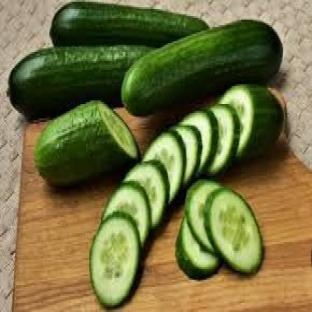Cucumber: (122, 20, 282, 114), (9, 45, 150, 120), (35, 103, 138, 186), (51, 2, 207, 46), (205, 189, 263, 274), (219, 85, 285, 157), (90, 212, 140, 306), (144, 131, 186, 202), (103, 182, 150, 245), (124, 160, 168, 227), (176, 217, 220, 279), (186, 180, 220, 252), (180, 112, 218, 173), (207, 106, 239, 173), (174, 126, 202, 186)
